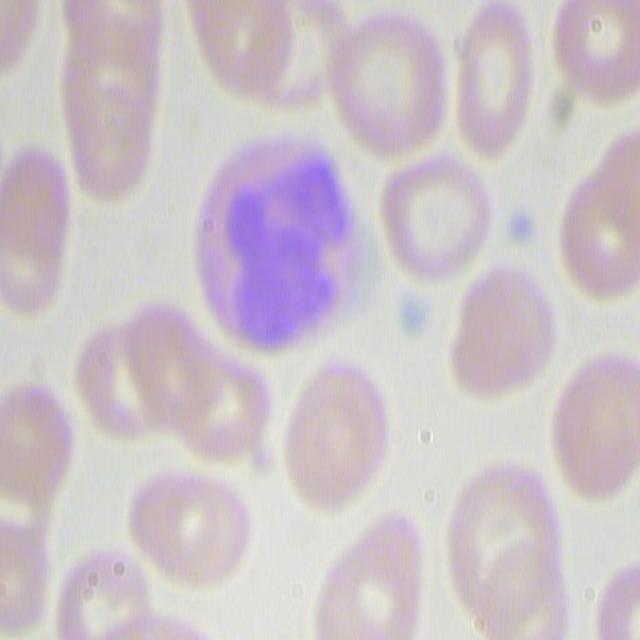RBC: (445, 461, 576, 640), (60, 0, 166, 208), (321, 0, 452, 165), (159, 330, 281, 482), (129, 447, 255, 594), (278, 351, 388, 513), (441, 259, 559, 408), (73, 311, 192, 450), (444, 0, 540, 168), (379, 149, 497, 285), (187, 2, 314, 115), (7, 385, 63, 640), (310, 516, 424, 638), (546, 352, 638, 500), (77, 545, 219, 640), (558, 152, 640, 304), (0, 152, 69, 327), (542, 1, 637, 110), (597, 553, 640, 638)
WBC: (194, 145, 365, 354)
platelets: (388, 288, 437, 353), (502, 203, 546, 256)
